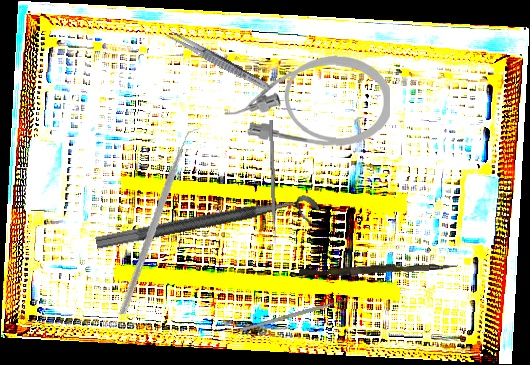Cannula: (224, 53, 391, 148)
Chopper: (85, 127, 239, 315)
Dressing Forceps: (163, 27, 273, 94)
Fixation Ring: (94, 192, 323, 269)
Pusher: (239, 295, 355, 333), (298, 258, 459, 280), (268, 119, 278, 249)
